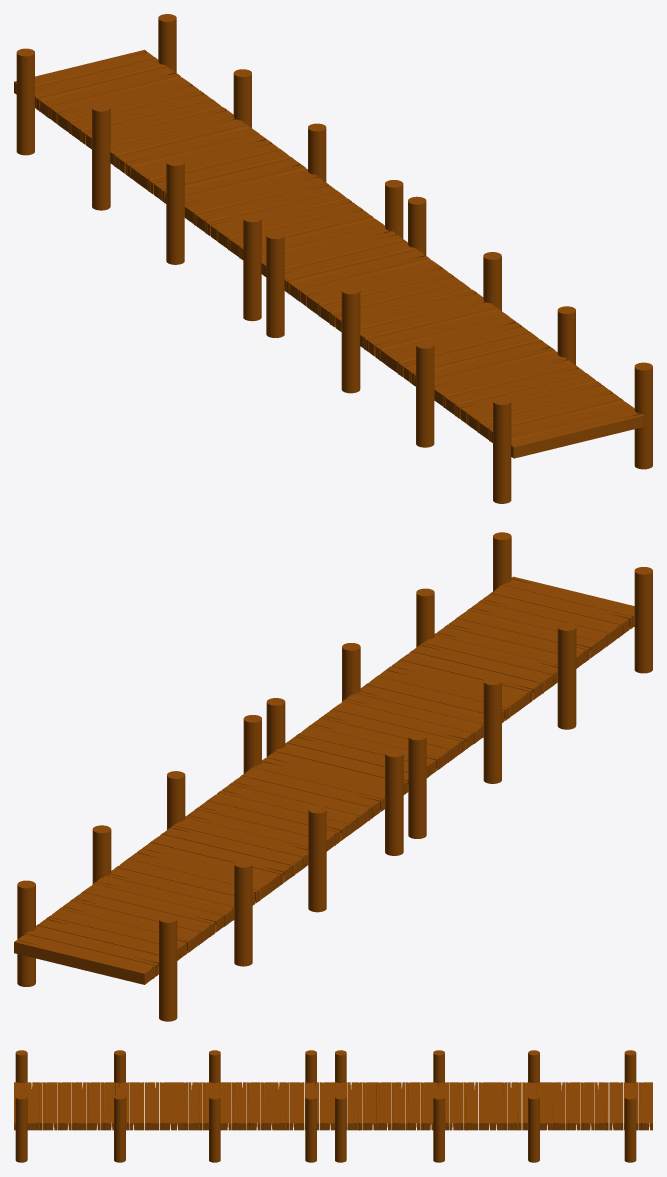
File: docks1.fbx
The picture shows the model from 3 angles, top to bottom: view 1: azimuth 30°, elevation 25°; view 2: azimuth 150°, elevation 25°; view 3: azimuth 270°, elevation 25°; orthographic projection. The views are drawn at different scales.
Visible parts, largest first — view 1: Cube.001, Cube.015, Cylinder.010, Cylinder.006, Cylinder, Cylinder.002, Cylinder.008, Cylinder.004, Cylinder.012, Cylinder.014, Cylinder.015, Cylinder.007 (+6 smaller); view 2: Cube.015, Cube.001, Cylinder.012, Cylinder.004, Cylinder, Cylinder.006, Cylinder.002, Cylinder.014, Cylinder.008, Cylinder.010, Cylinder.001, Cylinder.003 (+6 smaller); view 3: Cube.001, Cube.015, Cylinder.001, Cylinder.015, Cylinder.005, Cylinder.013, Cylinder.003, Cylinder.007, Cylinder.009, Cylinder.011, Cylinder, Cylinder.014 (+6 smaller).
Boxes of the visible parts, x1=… form: Cube.001: x1=263, y1=232, x2=644, y2=458; Cube.015: x1=14, y1=49, x2=394, y2=275; Cylinder.010: x1=341, y1=286, x2=360, y2=393; Cylinder.006: x1=243, y1=214, x2=261, y2=321; Cylinder: x1=16, y1=48, x2=34, y2=155; Cylinder.002: x1=92, y1=103, x2=110, y2=210; Cylinder.008: x1=266, y1=231, x2=284, y2=337; Cylinder.004: x1=166, y1=158, x2=184, y2=264; Cylinder.012: x1=416, y1=341, x2=434, y2=447; Cylinder.014: x1=493, y1=397, x2=511, y2=503; Cylinder.015: x1=634, y1=362, x2=652, y2=469; Cylinder.007: x1=385, y1=180, x2=403, y2=238; Cube.015: x1=14, y1=759, x2=385, y2=984; Cube.001: x1=263, y1=576, x2=634, y2=794; Cylinder.012: x1=557, y1=623, x2=576, y2=729; Cylinder.004: x1=308, y1=805, x2=326, y2=912; Cylinder: x1=159, y1=915, x2=177, y2=1021; Cylinder.006: x1=385, y1=749, x2=403, y2=855; Cylinder.002: x1=234, y1=860, x2=252, y2=966; Cylinder.014: x1=634, y1=567, x2=652, y2=673; Cylinder.008: x1=408, y1=732, x2=426, y2=838; Cylinder.010: x1=483, y1=677, x2=501, y2=783; Cylinder.001: x1=17, y1=880, x2=35, y2=986; Cylinder.003: x1=92, y1=825, x2=111, y2=884; Cube.001: x1=14, y1=1082, x2=333, y2=1130; Cube.015: x1=333, y1=1082, x2=652, y2=1130; Cylinder.001: x1=624, y1=1094, x2=636, y2=1162; Cylinder.015: x1=15, y1=1094, x2=27, y2=1162; Cylinder.005: x1=433, y1=1094, x2=444, y2=1162; Cylinder.013: x1=114, y1=1094, x2=125, y2=1162; Cylinder.003: x1=528, y1=1094, x2=539, y2=1162; Cylinder.007: x1=335, y1=1094, x2=346, y2=1162; Cylinder.009: x1=305, y1=1094, x2=316, y2=1162; Cylinder.011: x1=209, y1=1094, x2=220, y2=1162; Cylinder: x1=624, y1=1050, x2=636, y2=1088; Cylinder.014: x1=15, y1=1050, x2=27, y2=1082.
Bounding box in the file's own units: 4824 × 2892 × 26488.
